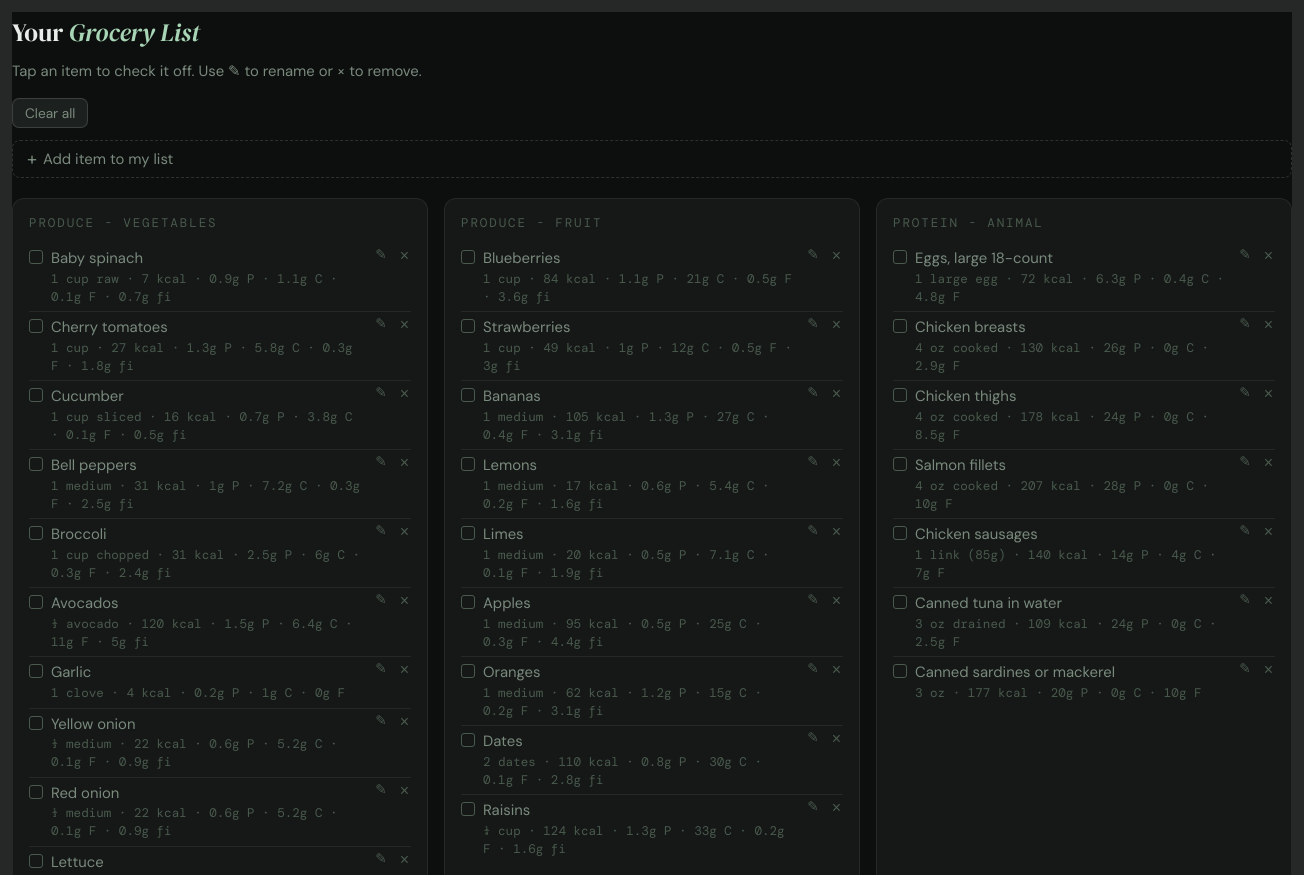
it: GroceryPanel — dynamic catalog › typing a name enables the Add item button
Click the button with aria-label "add grocery item" at coordinates (108, 159), box [12,140,1292,178]
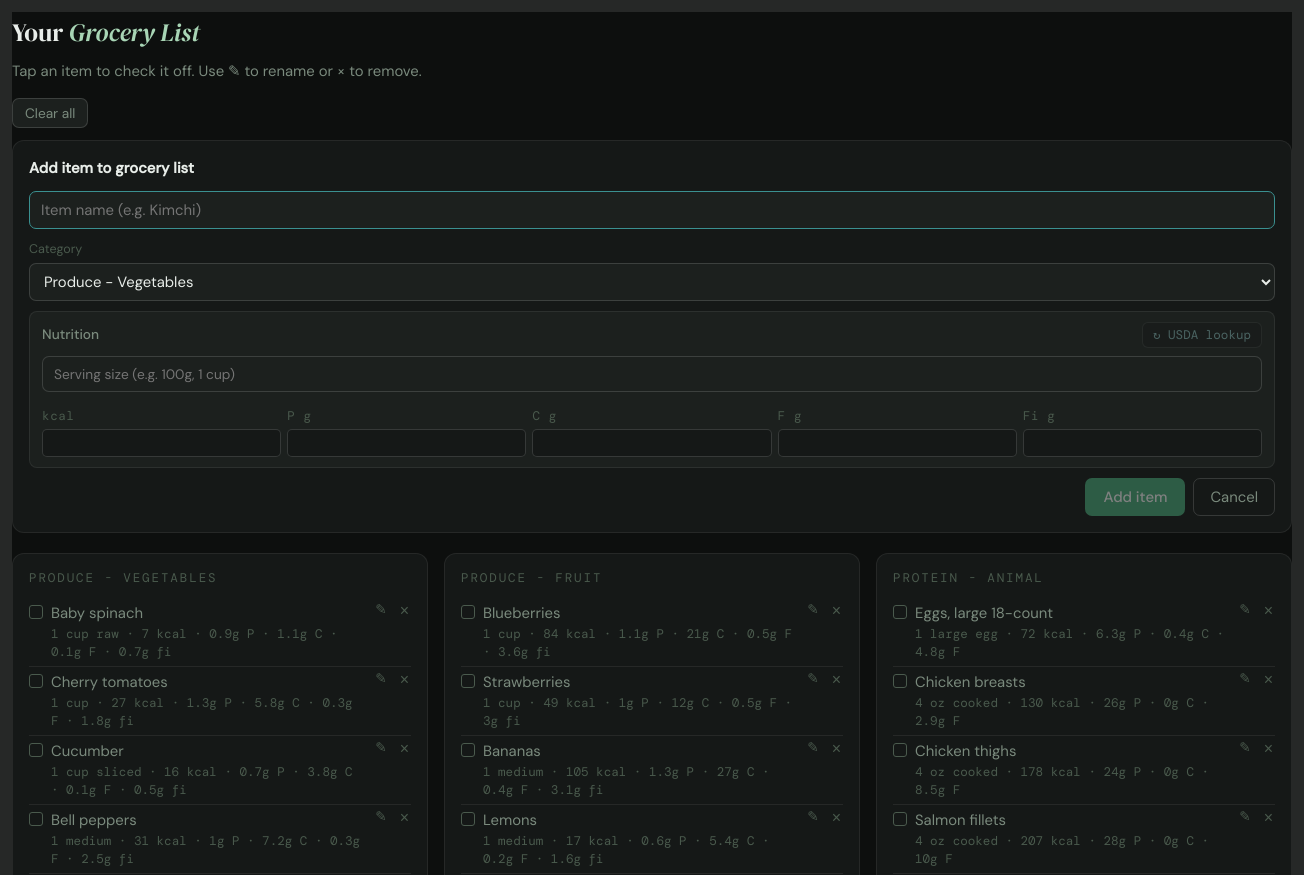
Type "Kimchi" into the field with placeholder "Item name (e.g. Kimchi)" at coordinates (652, 210), box [29,191,1275,229]
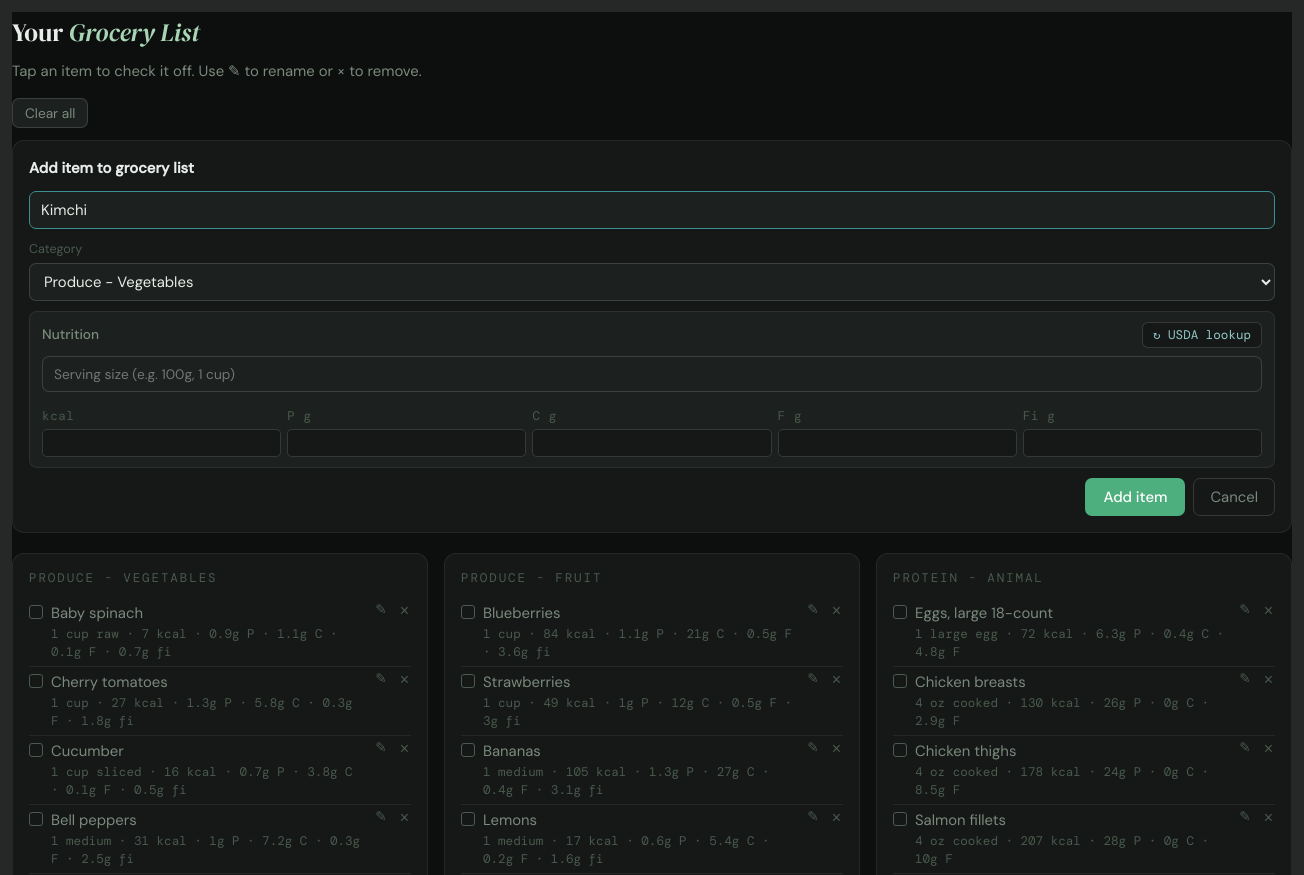
Expected: the button "Add item" is enabled, [1086,478,1186,516]
